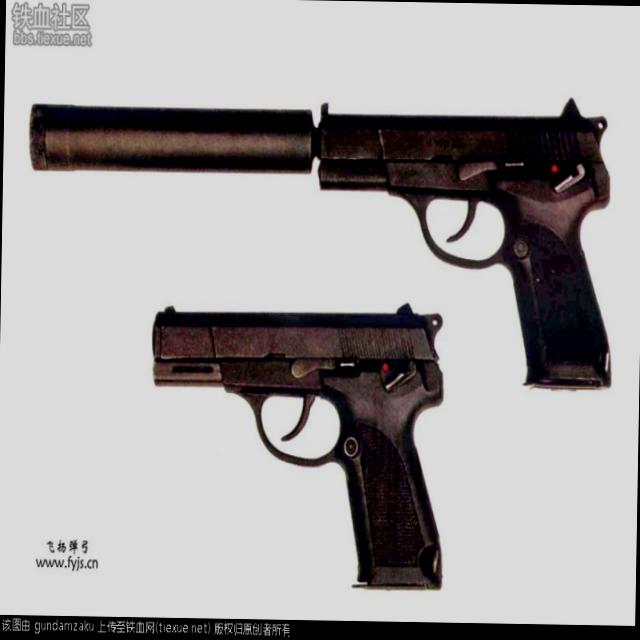handgun: (312, 99, 622, 390), (145, 300, 455, 587)
